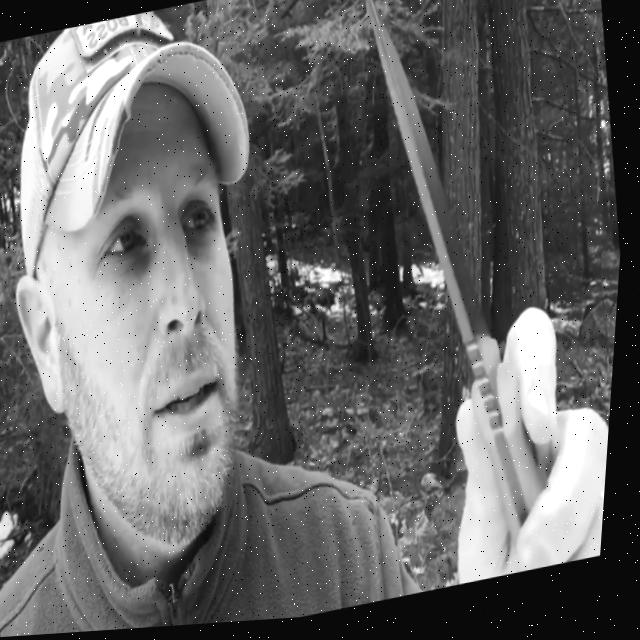knife: (312, 0, 582, 564)
